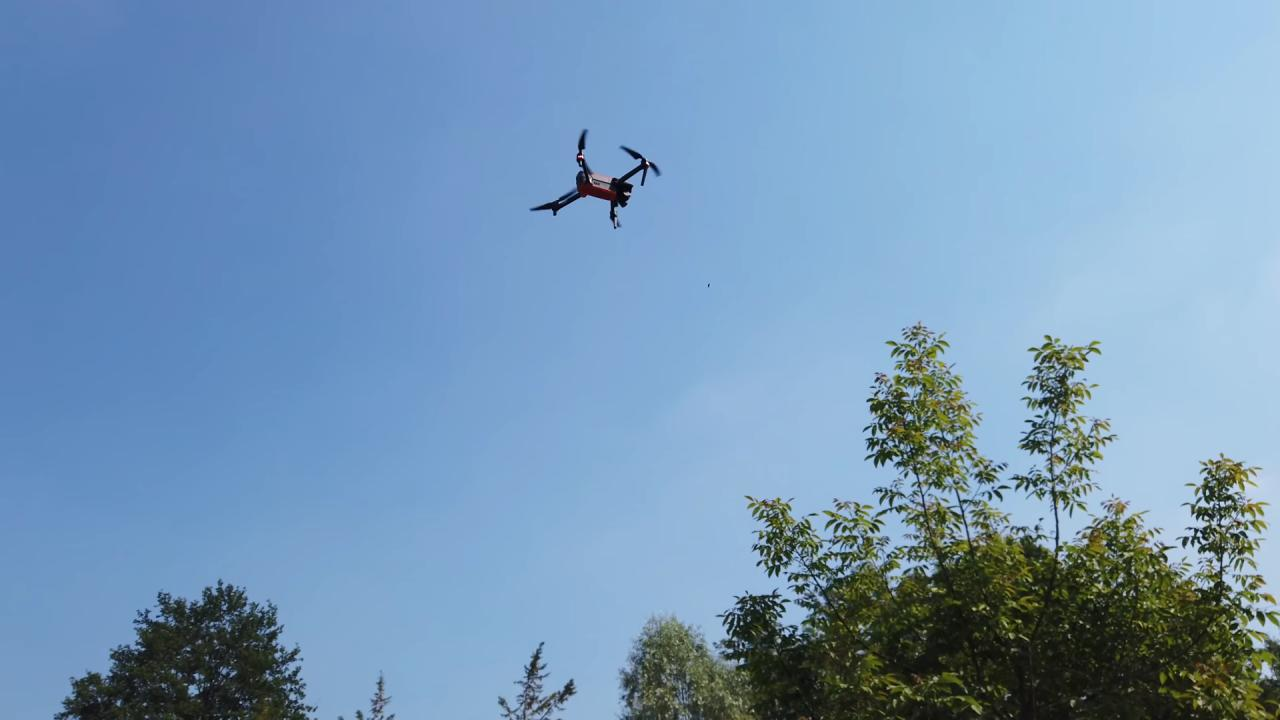Drone: (521, 121, 673, 243)
